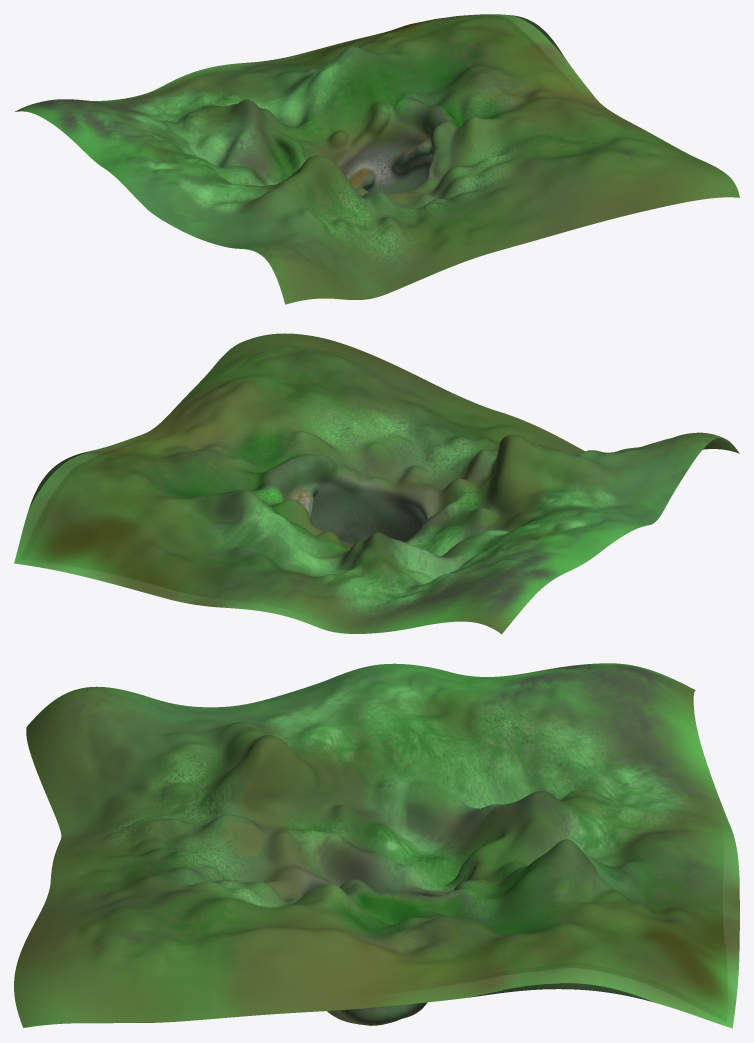
Rendered from rocky mountain.obj.
The picture shows the model from 3 angles, top to bottom: view 1: azimuth 30°, elevation 25°; view 2: azimuth 150°, elevation 25°; view 3: azimuth 270°, elevation 25°; orthographic projection. The views are drawn at different scales.
Visible parts, largest first — view 1: Landscape; view 2: Landscape; view 3: Landscape.
Part boxes in pixels (x1=…): Landscape: x1=15, y1=14, x2=739, y2=304; Landscape: x1=14, y1=333, x2=739, y2=634; Landscape: x1=14, y1=663, x2=739, y2=1028.
Size of the model in its own units: 11.73 by 3.56 by 11.16.
